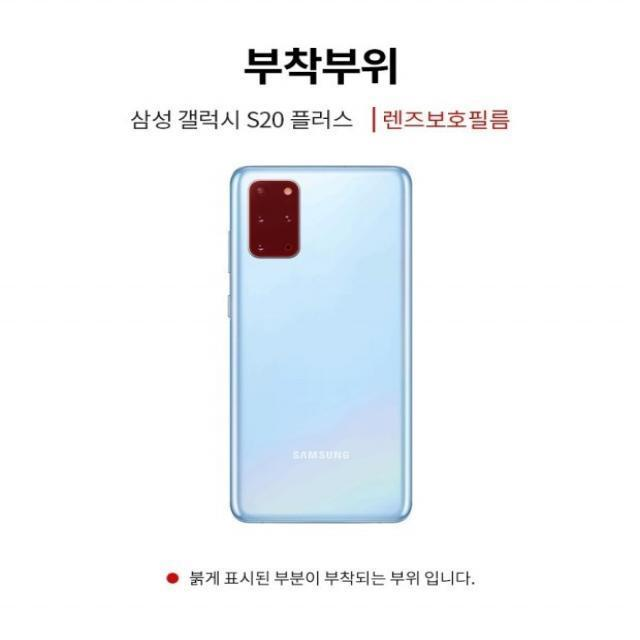phone: (224, 163, 416, 528)
